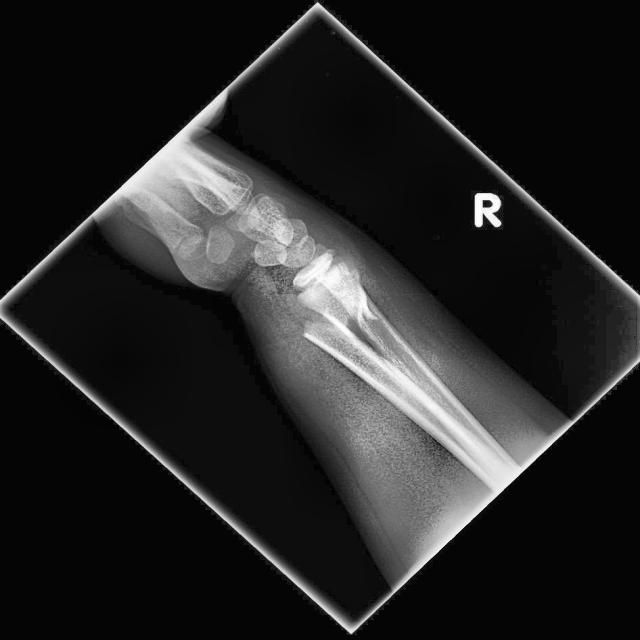fracture: (302, 313, 358, 345), (362, 290, 377, 322)
